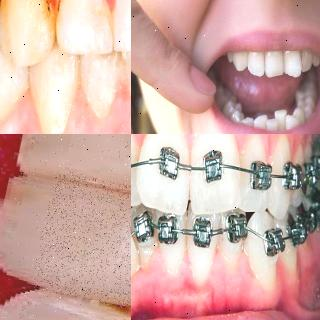Gum Swelling: (131, 250, 281, 306)
maligned: (136, 134, 189, 214), (243, 209, 279, 291), (263, 48, 285, 79), (282, 46, 302, 80), (274, 110, 289, 130), (252, 113, 269, 128), (284, 112, 298, 128), (266, 118, 280, 130)
